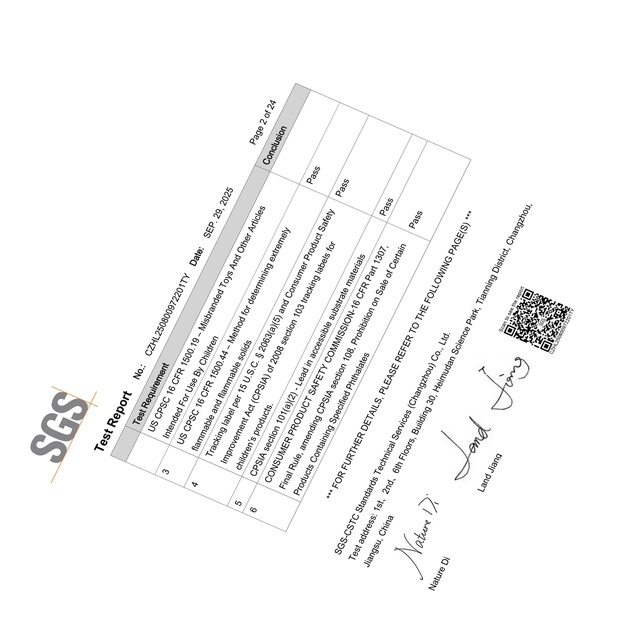sgs: (30, 390, 88, 463)
